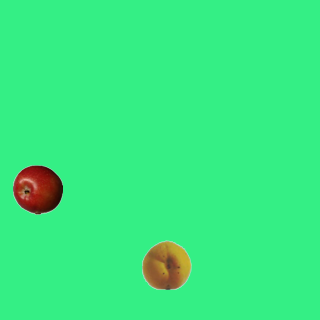Apple Braeburn: (12, 164, 62, 214)
Peach 2: (141, 239, 191, 289)
